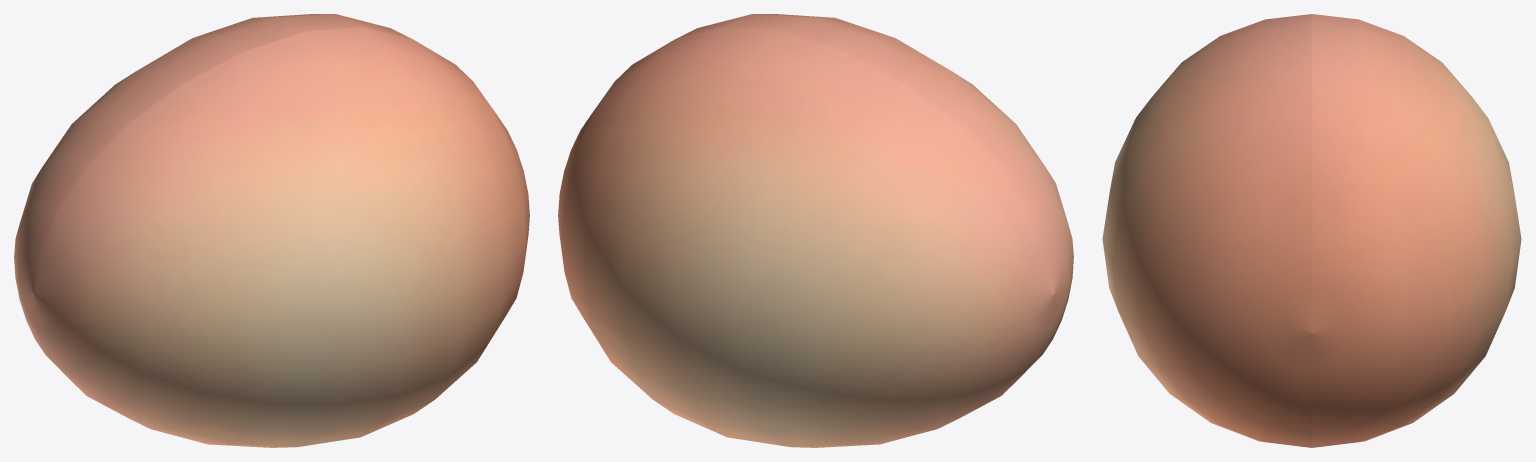
File: Restaurant_Ice cream_Crack in the egg - big.FBX
The picture shows the model from 3 angles, left to right: view 1: azimuth 30°, elevation 25°; view 2: azimuth 150°, elevation 25°; view 3: azimuth 270°, elevation 25°; orthographic projection. The views are drawn at different scales.
Visible parts, largest first — view 1: Restaurant_Ice cream_Crack in the egg - big; view 2: Restaurant_Ice cream_Crack in the egg - big; view 3: Restaurant_Ice cream_Crack in the egg - big.
Part boxes in pixels (x1,y1,x2,y2): Restaurant_Ice cream_Crack in the egg - big: (14, 14, 529, 447); Restaurant_Ice cream_Crack in the egg - big: (558, 14, 1073, 447); Restaurant_Ice cream_Crack in the egg - big: (1102, 14, 1521, 447).
Size of the model in its own units: 6.1 by 4.89 by 4.89.
